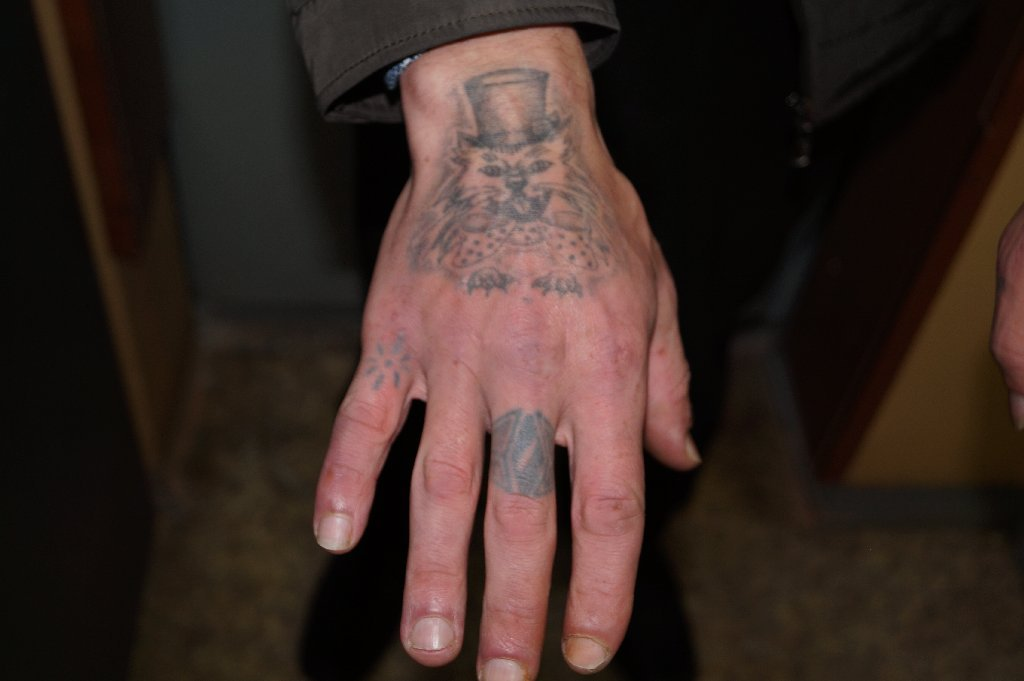tatu8_kot: (388, 66, 655, 312)
